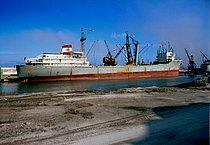Ship: (14, 43, 185, 83)
